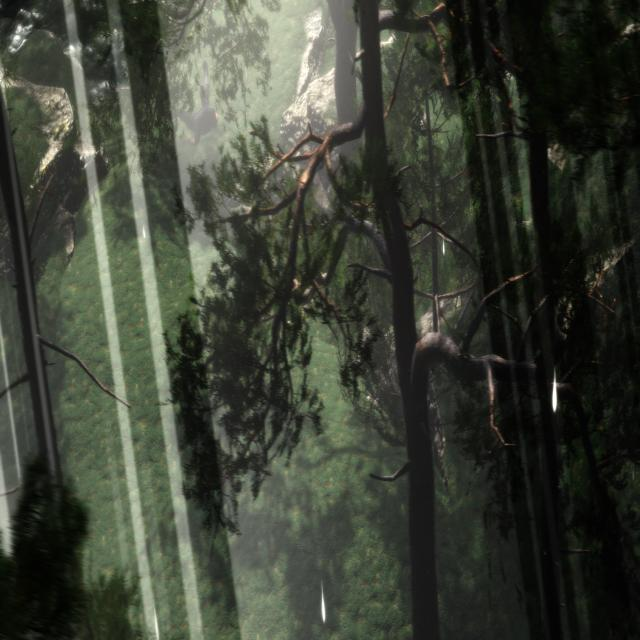Human: (164, 54, 222, 147)
